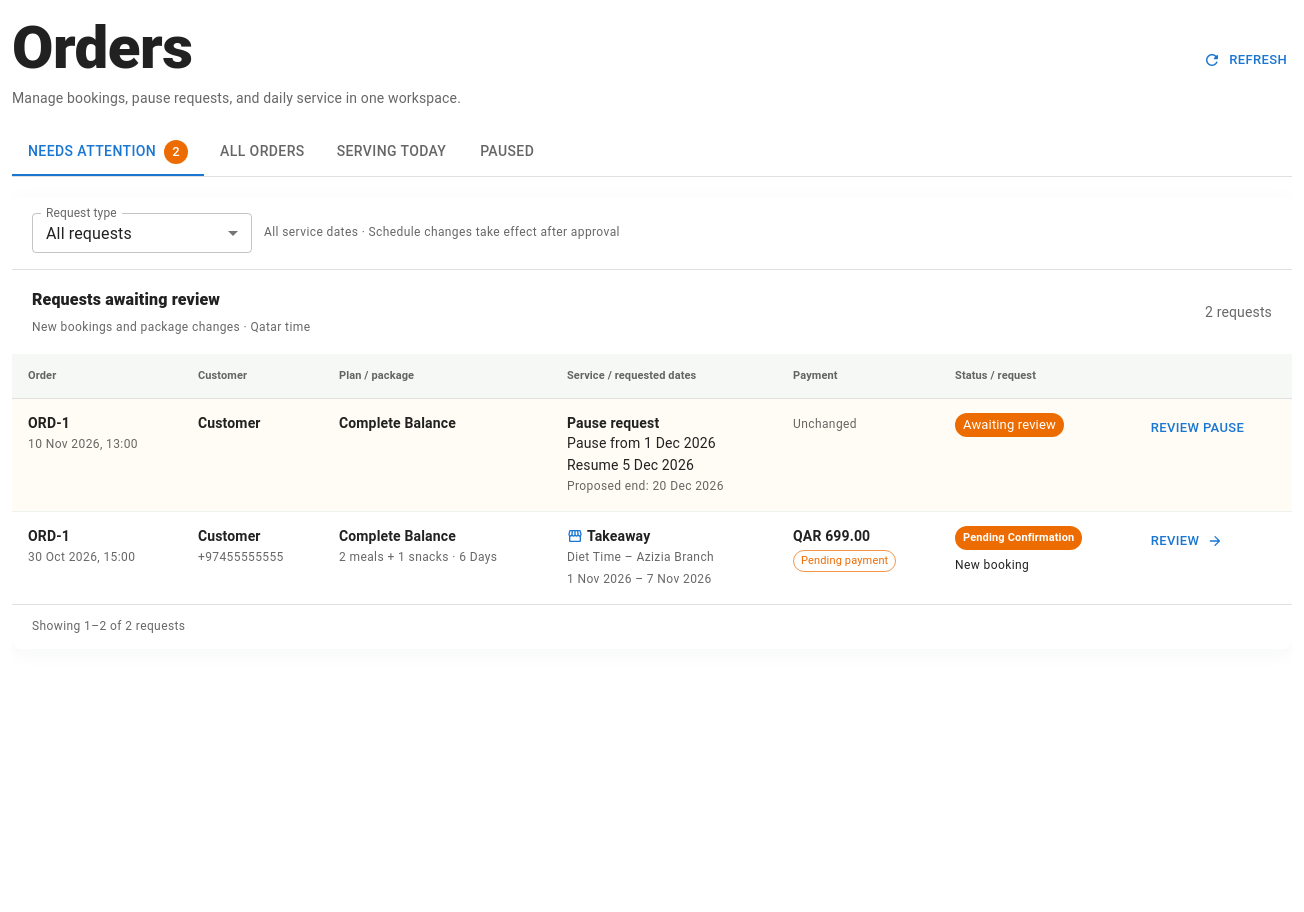
Unified order requests › filters the same grid to pause requests without showing booking rows
The width and height of the screenshot is (1304, 912).
Expected: the button "Review pause" is shown, [1146, 413, 1249, 444]
Press the mouse on the dropdown named "Request type" at [89, 233], box [46, 224, 132, 242]
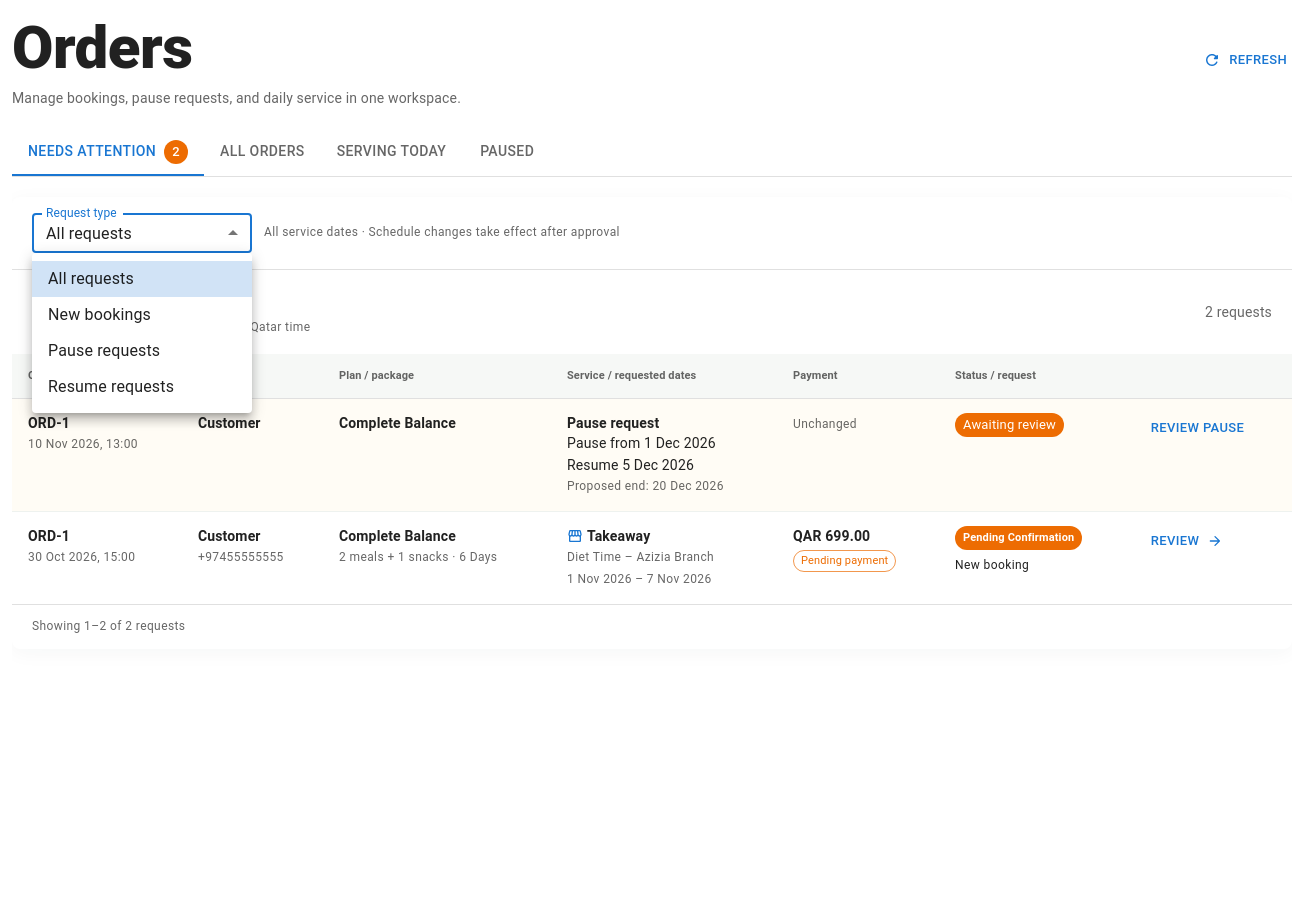
Click the option "Pause requests" at [104, 350], box [48, 341, 160, 360]
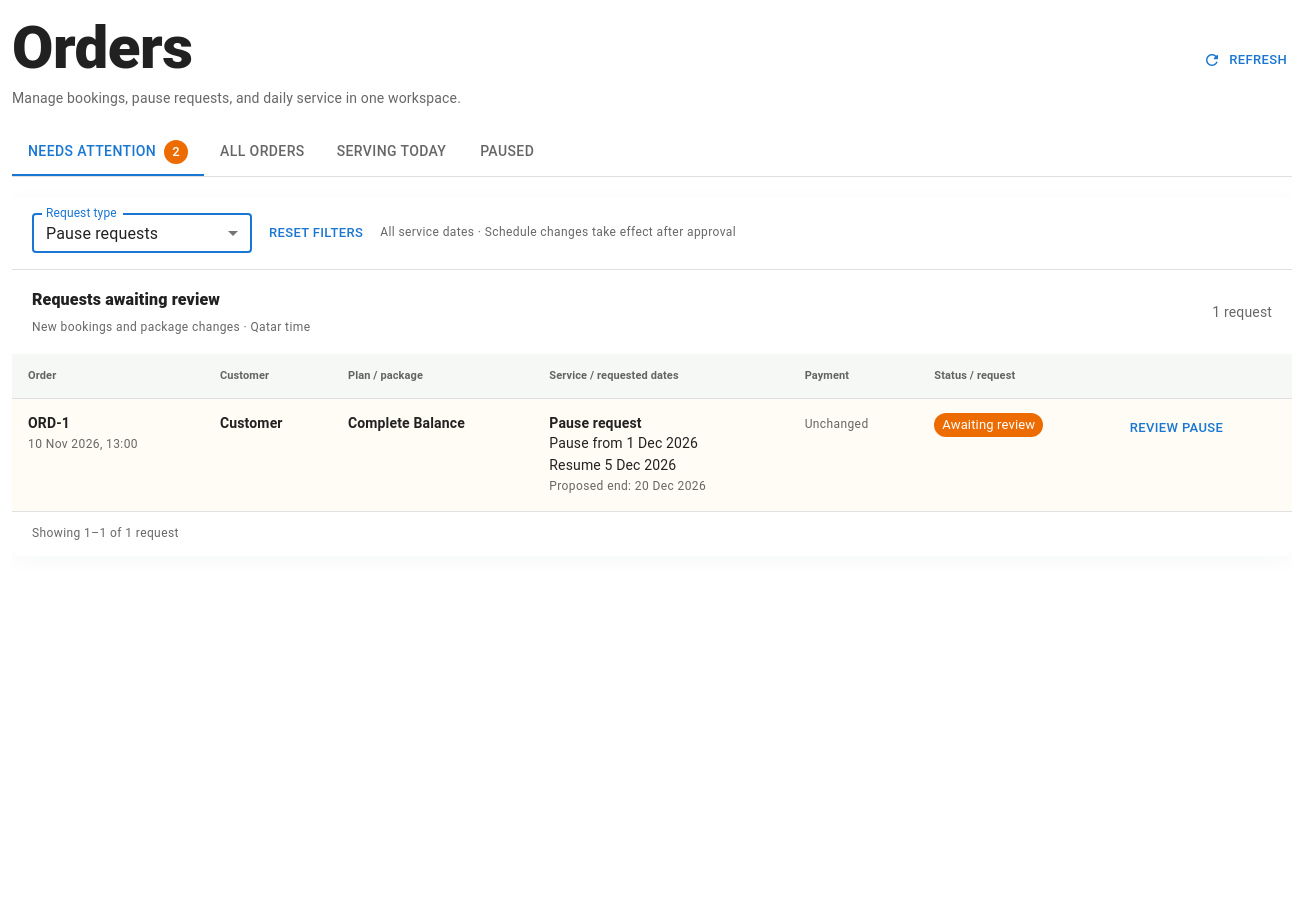
Expected: the button "Review pause" is shown, [1125, 413, 1228, 444]
